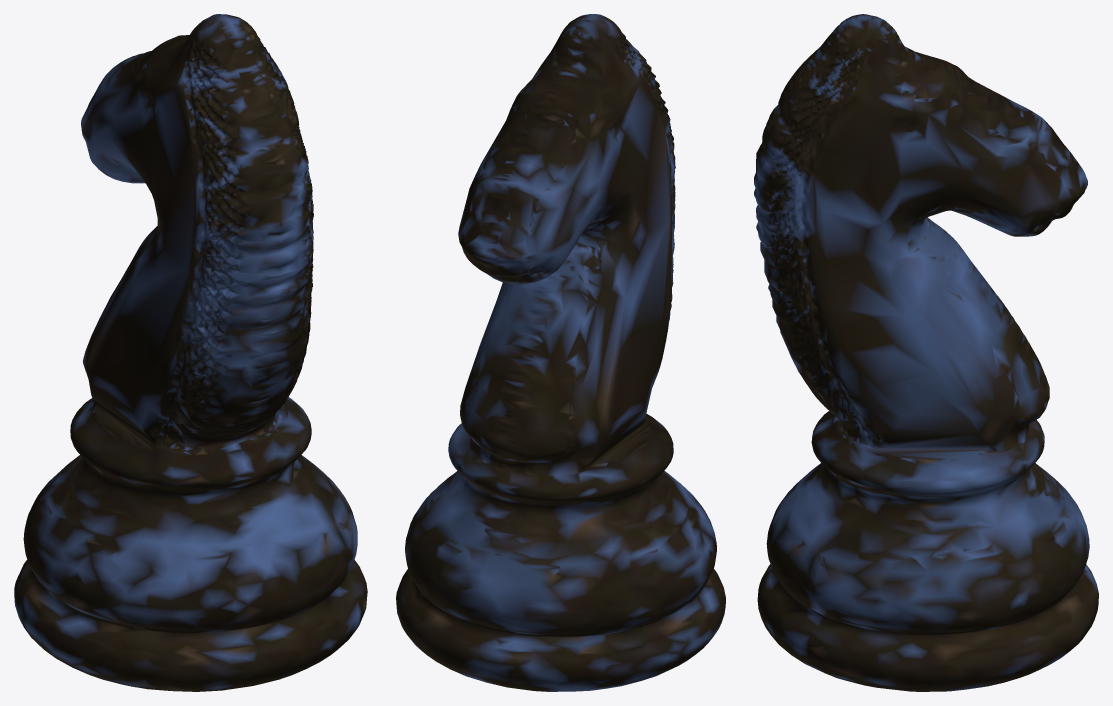
Rendered from knight-black-hd.glb.
3 renders of one model, left to right at view 1: azimuth 30°, elevation 25°; view 2: azimuth 150°, elevation 25°; view 3: azimuth 270°, elevation 25°, orthographic. The views are drawn at different scales.
Visible parts, largest first — view 1: Cobalt Vein white knight; view 2: Cobalt Vein white knight; view 3: Cobalt Vein white knight.
Part boxes in pixels (x1=…): Cobalt Vein white knight: x1=14, y1=14, x2=367, y2=691; Cobalt Vein white knight: x1=396, y1=14, x2=725, y2=691; Cobalt Vein white knight: x1=754, y1=14, x2=1098, y2=691.
Size of the model in its own units: 0.595 by 1.19 by 0.6013.
